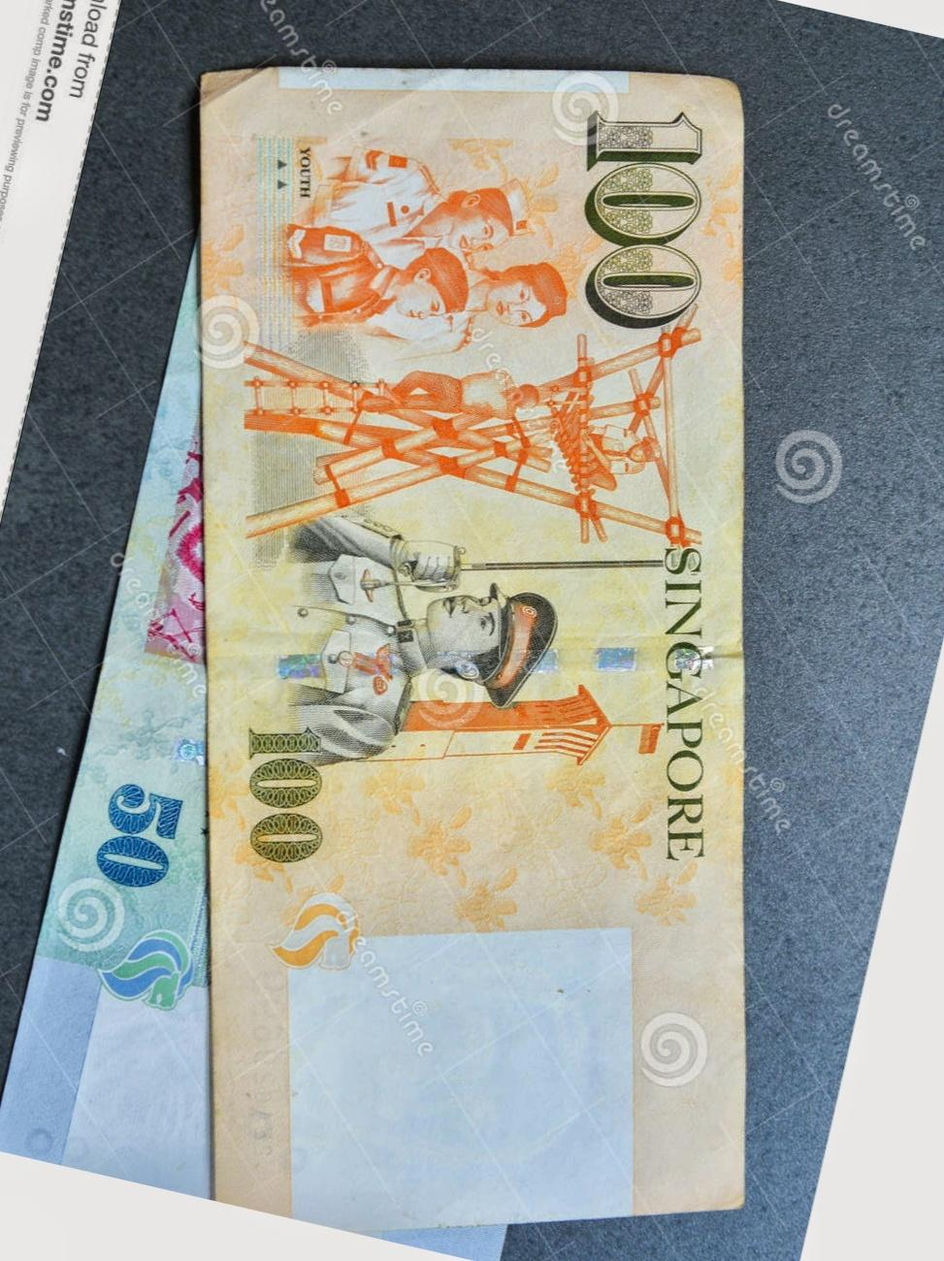100SingaporeDollar: (217, 79, 735, 1196)
